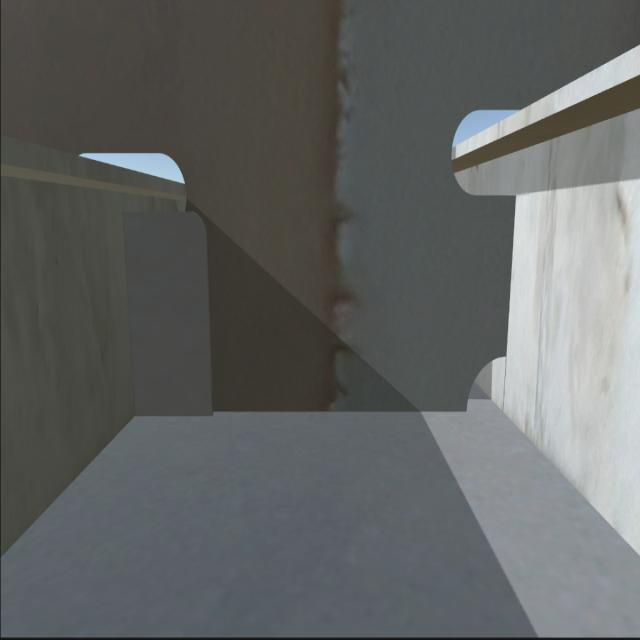fillet_hole: (461, 356, 506, 414)
fillet_yong_jeop_jang: (131, 398, 466, 418)
longi_yong_jeop_jang: (126, 213, 140, 416), (507, 195, 519, 355)
plate_CP05: (129, 214, 211, 416)
